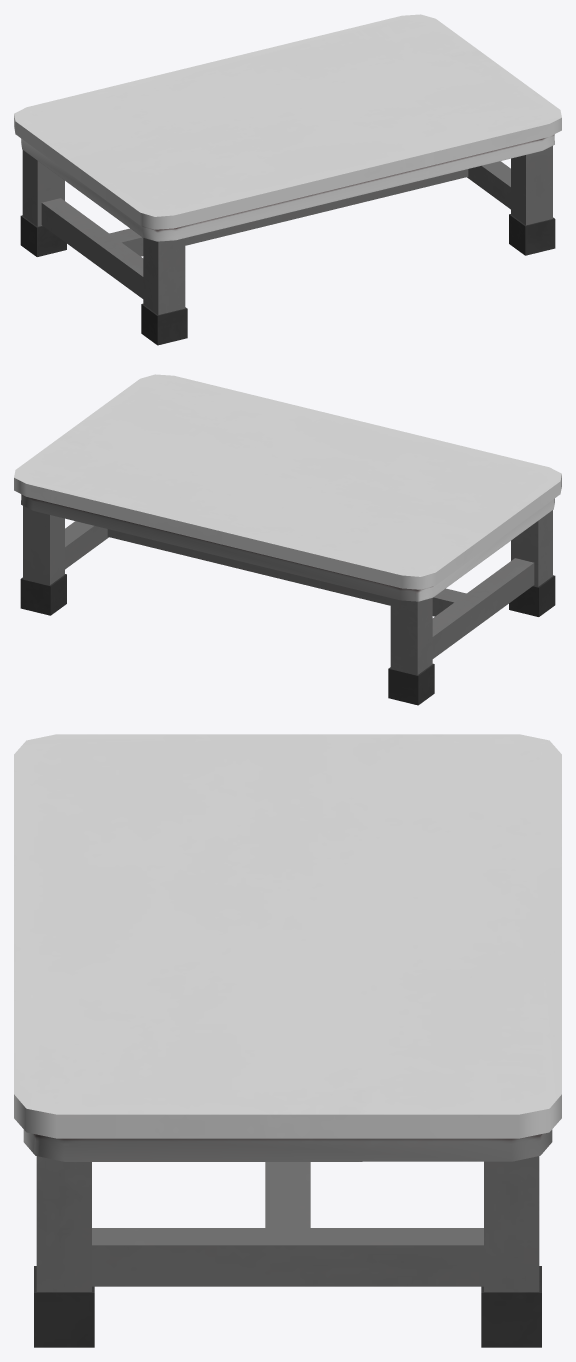
Rendered from Pfb_Table__14.fbx.
The picture shows the model from 3 angles, top to bottom: view 1: azimuth 30°, elevation 25°; view 2: azimuth 150°, elevation 25°; view 3: azimuth 270°, elevation 25°; orthographic projection. The views are drawn at different scales.
Parts seen in each view (by area): view 1: Mat_Table_03_Yellow; view 2: Mat_Table_03_Yellow; view 3: Mat_Table_03_Yellow.
Boxes of the visible parts, box(x1,y1,x2,y2) form: Mat_Table_03_Yellow: box(14, 14, 561, 345); Mat_Table_03_Yellow: box(14, 374, 561, 705); Mat_Table_03_Yellow: box(14, 734, 561, 1347).
Bounding box in the file's own units: 2.26 × 0.6736 × 1.37.
Materials: 1 (1 with a texture image).
